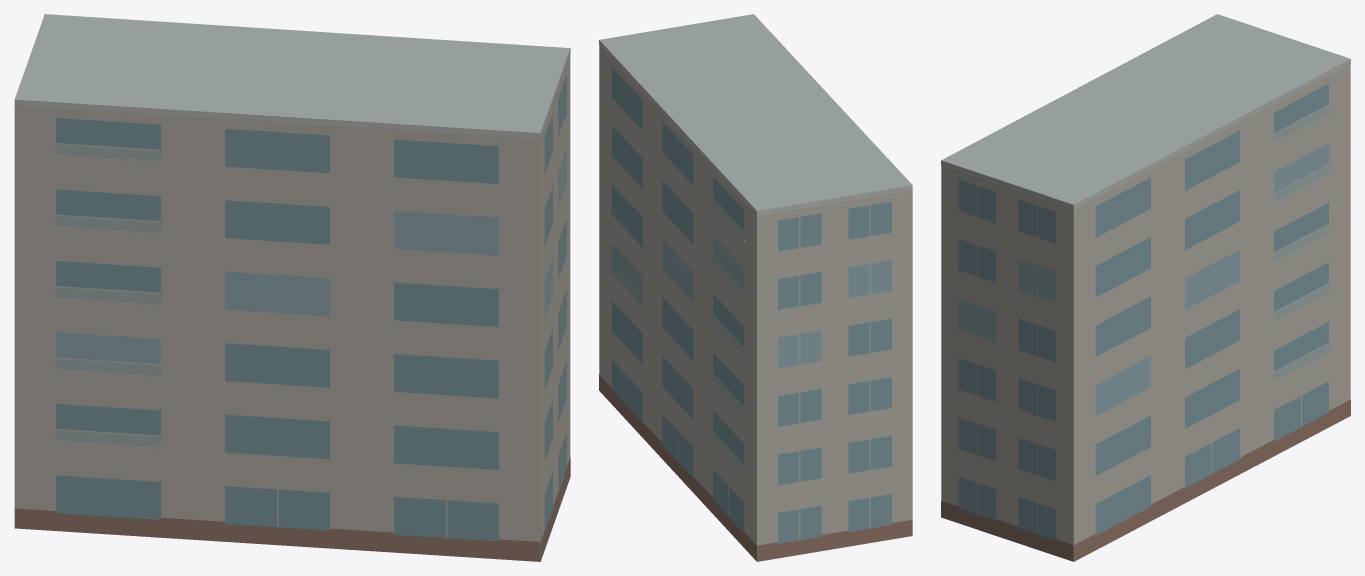
Rendered from survey-upis-32657274.glb.
The picture shows the model from 3 angles, left to right: view 1: azimuth 30°, elevation 25°; view 2: azimuth 150°, elevation 25°; view 3: azimuth 270°, elevation 25°; orthographic projection. The views are drawn at different scales.
Visible parts, largest first — view 1: survey-upis-32657274.tmp; view 2: survey-upis-32657274.tmp; view 3: survey-upis-32657274.tmp.
Boxes of the visible parts, x1,y1,x2,y2 form: survey-upis-32657274.tmp: (14, 14, 570, 561); survey-upis-32657274.tmp: (599, 14, 912, 561); survey-upis-32657274.tmp: (941, 14, 1350, 561).
Bounding box in the file's own units: 19.83 × 17.3 × 17.99.
